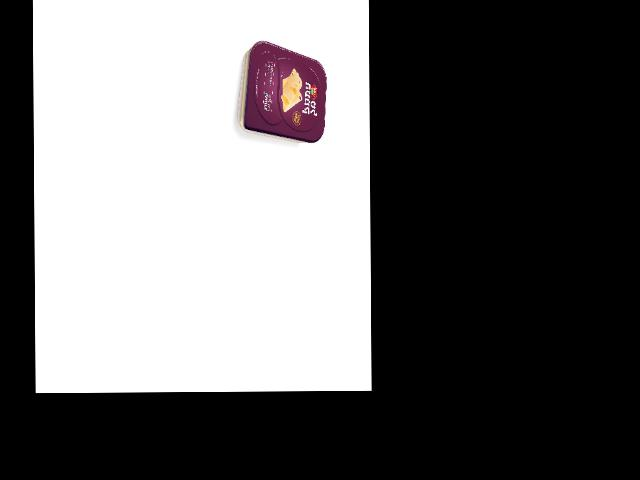cheese: (237, 40, 327, 143)
